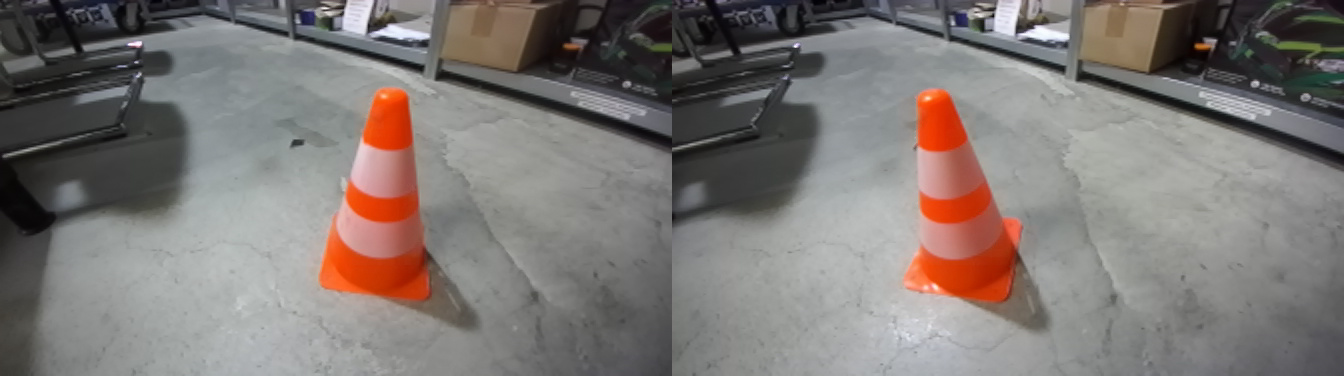cone: (901, 94, 1030, 309), (320, 92, 442, 305)
